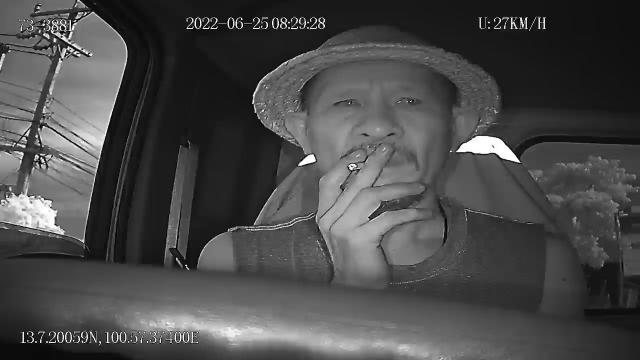SafeDriving: (387, 86, 428, 112), (328, 89, 366, 115)
Smoking: (347, 160, 367, 172)
